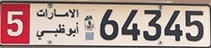character: (184, 8, 205, 43), (119, 8, 141, 41), (98, 7, 119, 41), (142, 8, 162, 42), (163, 9, 184, 41), (5, 8, 24, 38)
